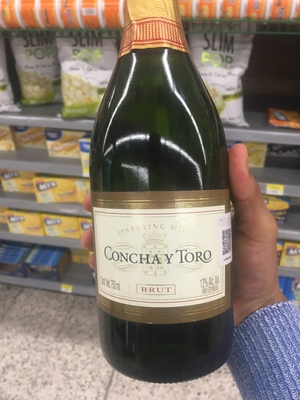brut: (82, 6, 251, 373)
